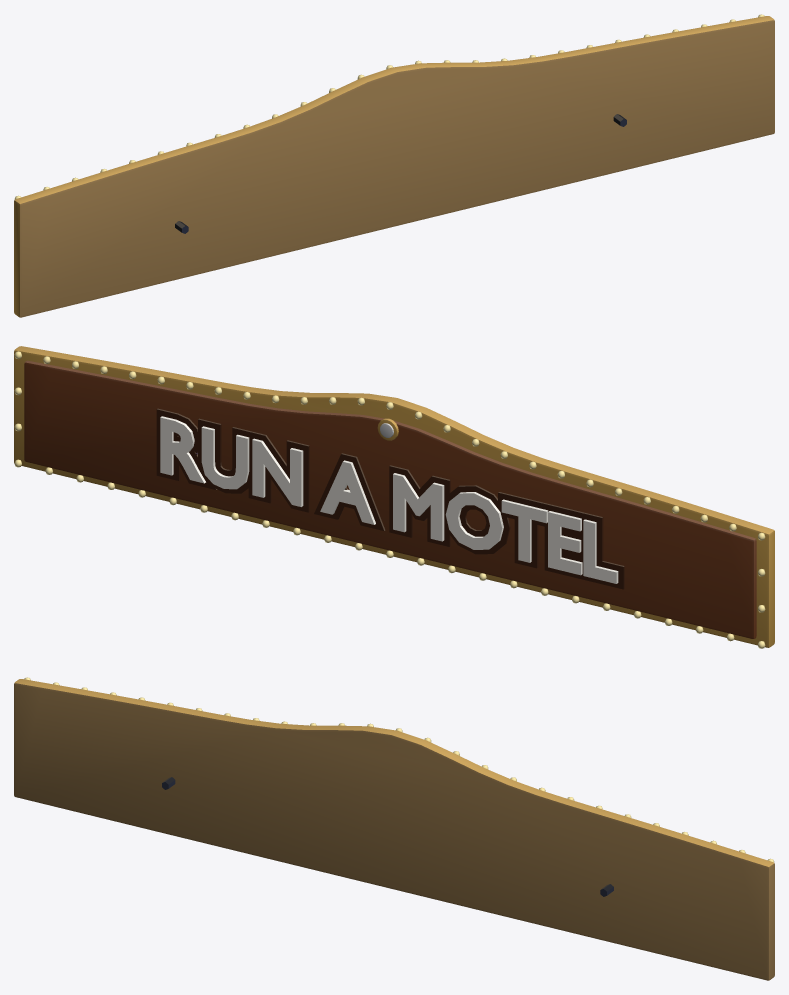
The model's file is LobbyTitle.fbx.
3 renders of one model, top to bottom at view 1: azimuth 30°, elevation 25°; view 2: azimuth 150°, elevation 25°; view 3: azimuth 330°, elevation 25°, orthographic.
Parts seen in each view (by area): view 1: SM_Bld_LobbyTitle_Sign, SM_Bld_LobbyTitle_Glow; view 2: SM_Bld_LobbyTitle_Sign, SM_Bld_LobbyTitle_Glow; view 3: SM_Bld_LobbyTitle_Sign, SM_Bld_LobbyTitle_Glow.
Boxes of the visible parts, x1,y1,x2,y2 form: SM_Bld_LobbyTitle_Sign: (14, 16, 774, 317); SM_Bld_LobbyTitle_Glow: (14, 14, 764, 199); SM_Bld_LobbyTitle_Sign: (14, 346, 774, 647); SM_Bld_LobbyTitle_Glow: (14, 351, 765, 648); SM_Bld_LobbyTitle_Sign: (14, 679, 774, 980); SM_Bld_LobbyTitle_Glow: (24, 677, 774, 862).
Size of the model in its own units: 26.9 by 5.3 by 1.14.
